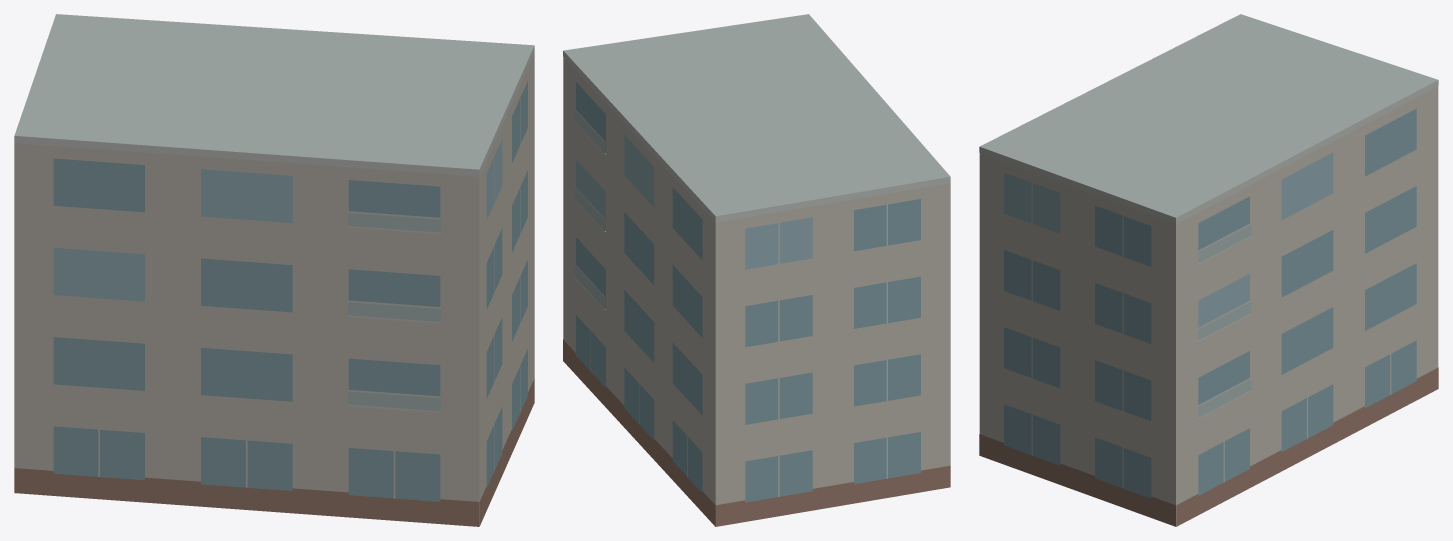
The model's file is survey-upis-32655430.glb.
3 views of the same model, side by side, from view 1: azimuth 30°, elevation 25°; view 2: azimuth 150°, elevation 25°; view 3: azimuth 270°, elevation 25° (orthographic). The views are drawn at different scales.
Visible parts, largest first — view 1: survey-upis-32655430.tmp; view 2: survey-upis-32655430.tmp; view 3: survey-upis-32655430.tmp.
Boxes of the visible parts, x1,y1,x2,y2 form: survey-upis-32655430.tmp: (14,14,534,526); survey-upis-32655430.tmp: (563,14,950,526); survey-upis-32655430.tmp: (979,14,1438,526).
Bounding box in the file's own units: 17.27 × 12.2 × 16.43.
